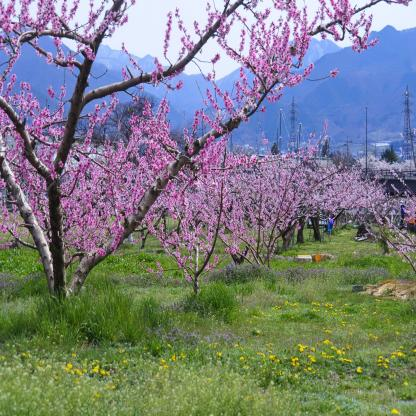Momo: (0, 0, 413, 286), (145, 128, 263, 260), (252, 116, 358, 231), (340, 154, 416, 272)
